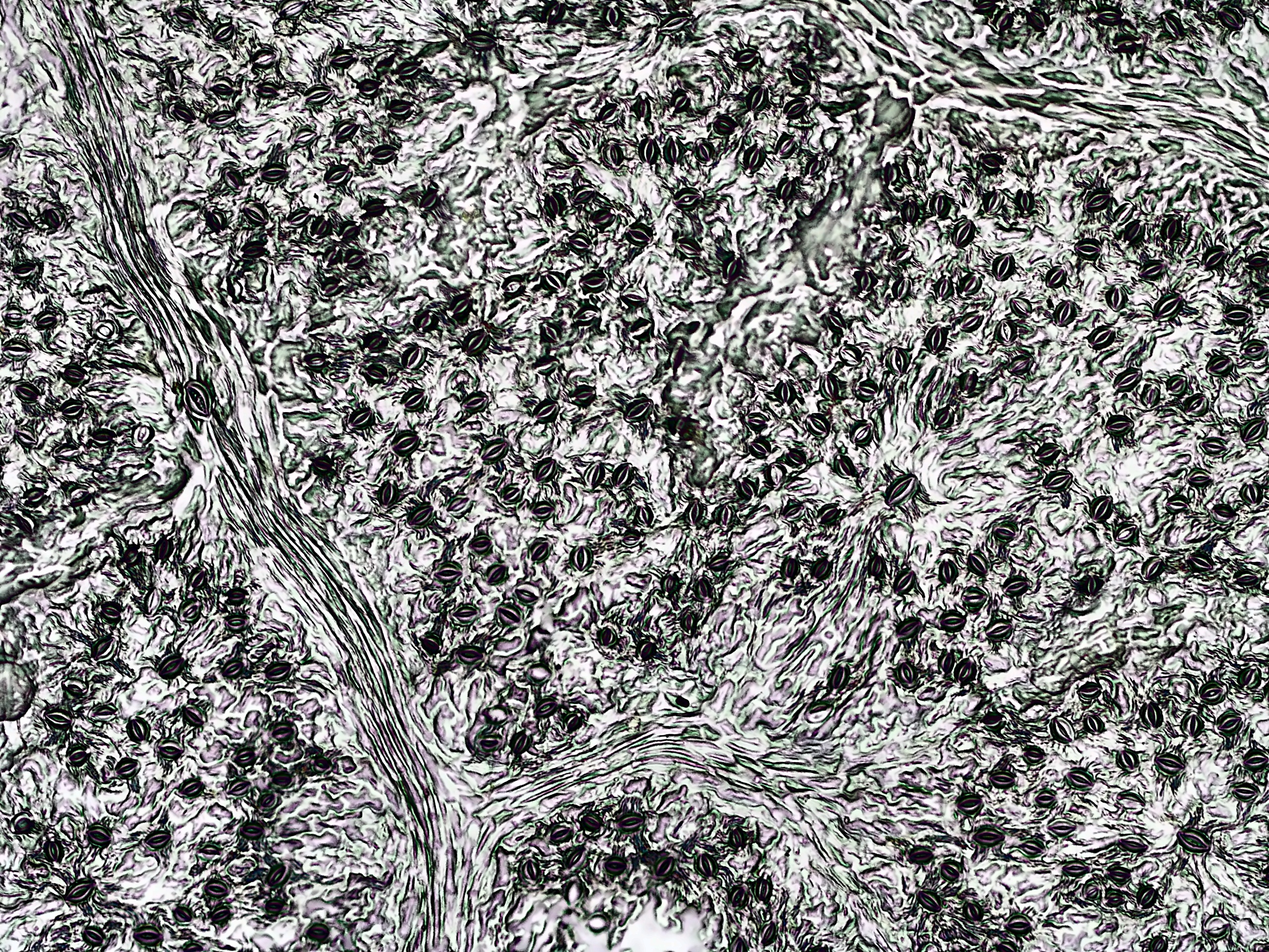stomata: (934, 645, 965, 683), (884, 475, 916, 509), (183, 380, 212, 417), (1161, 10, 1193, 42), (912, 887, 943, 919), (1173, 830, 1214, 853), (1047, 715, 1078, 744), (669, 234, 702, 261), (1041, 469, 1078, 493), (1199, 243, 1229, 272), (123, 717, 154, 745), (245, 45, 279, 70), (988, 8, 1018, 36), (890, 659, 920, 687), (536, 2, 570, 26), (799, 700, 835, 722), (1109, 35, 1148, 55), (40, 708, 75, 730), (1090, 5, 1126, 26), (909, 842, 937, 869), (680, 499, 709, 525), (6, 811, 36, 836), (1240, 418, 1265, 448), (63, 880, 97, 902), (1151, 751, 1185, 773), (459, 329, 490, 353), (175, 599, 206, 623), (1115, 791, 1146, 815), (1075, 575, 1107, 598), (957, 370, 985, 396), (233, 241, 271, 260), (167, 101, 197, 125), (970, 827, 1006, 847), (974, 152, 1008, 173), (529, 400, 560, 423), (389, 432, 420, 455), (155, 655, 186, 678), (719, 256, 745, 283), (886, 347, 911, 375), (989, 252, 1014, 280), (466, 29, 495, 53), (668, 187, 701, 208), (130, 926, 163, 947), (414, 634, 444, 657), (1000, 575, 1030, 598), (975, 711, 1011, 730), (302, 83, 333, 105), (527, 355, 561, 375), (169, 4, 203, 24), (128, 420, 154, 446), (12, 510, 38, 536), (623, 397, 650, 422), (956, 272, 981, 299), (1114, 367, 1141, 392), (1215, 4, 1240, 31), (599, 141, 626, 166), (180, 702, 205, 729), (744, 82, 768, 110), (1003, 913, 1035, 934), (1181, 393, 1209, 417), (983, 618, 1012, 641), (931, 275, 954, 304), (928, 190, 951, 219), (891, 275, 913, 305), (82, 826, 112, 848), (1200, 916, 1230, 938), (262, 661, 293, 682), (774, 379, 799, 405), (1139, 702, 1165, 727), (1154, 296, 1181, 320), (742, 145, 766, 172), (775, 135, 802, 159), (89, 636, 116, 660), (937, 860, 964, 884), (8, 261, 42, 280), (837, 342, 865, 365), (416, 185, 439, 213), (621, 223, 653, 243), (59, 677, 91, 697), (198, 879, 230, 899), (1064, 770, 1096, 790), (498, 276, 527, 298), (928, 406, 957, 428), (303, 920, 332, 942), (538, 271, 568, 292), (411, 310, 441, 331), (1031, 442, 1061, 463), (290, 127, 320, 148), (979, 189, 1004, 214), (447, 295, 473, 319), (1027, 10, 1053, 34), (241, 204, 267, 228), (804, 414, 831, 437), (1011, 186, 1034, 213), (787, 62, 815, 84), (781, 96, 809, 118), (1210, 502, 1238, 524), (405, 505, 434, 526), (820, 371, 841, 400), (937, 611, 966, 632), (923, 325, 944, 354), (1205, 355, 1234, 376), (569, 305, 601, 324), (660, 12, 692, 31), (86, 702, 118, 721), (267, 722, 299, 741), (478, 440, 508, 460), (538, 320, 563, 344), (401, 345, 426, 369), (592, 103, 622, 123), (1238, 339, 1268, 359), (960, 587, 986, 610), (222, 168, 245, 194), (42, 837, 65, 863), (1076, 679, 1102, 702), (632, 639, 659, 661), (346, 406, 373, 428), (1084, 191, 1111, 213), (140, 832, 173, 850), (430, 564, 461, 583), (322, 166, 353, 185), (167, 904, 198, 923), (611, 461, 632, 489), (91, 319, 119, 340), (1105, 415, 1134, 435), (3, 208, 32, 228), (79, 928, 108, 948), (1, 340, 33, 358), (265, 863, 289, 887), (967, 550, 990, 575), (1088, 497, 1113, 520), (201, 208, 226, 231), (1115, 749, 1140, 772), (1241, 481, 1264, 506), (756, 920, 778, 946), (1134, 886, 1160, 908), (618, 286, 648, 305), (1046, 817, 1076, 836), (530, 458, 557, 479), (958, 311, 985, 332), (165, 64, 186, 91), (209, 906, 236, 927), (494, 605, 522, 625), (43, 202, 63, 230), (114, 757, 142, 777), (224, 777, 252, 797), (955, 793, 983, 813), (1198, 682, 1226, 702), (1241, 251, 1269, 271), (204, 111, 235, 129), (1118, 835, 1149, 853), (567, 546, 590, 570), (849, 421, 873, 444), (952, 221, 975, 245), (57, 399, 86, 418), (229, 747, 258, 766), (570, 385, 595, 407), (583, 463, 605, 488), (833, 454, 855, 479), (692, 138, 714, 163), (714, 503, 735, 529), (1007, 296, 1033, 317), (994, 319, 1015, 345), (1090, 326, 1116, 347), (284, 206, 310, 227), (13, 383, 39, 404), (829, 664, 850, 690), (1225, 306, 1251, 327), (577, 273, 609, 290), (1230, 782, 1262, 799), (379, 478, 399, 505), (896, 617, 923, 637), (0, 306, 27, 326), (65, 484, 92, 504), (1197, 436, 1227, 454), (1005, 354, 1033, 373), (663, 136, 682, 164), (711, 115, 739, 134), (178, 778, 206, 797), (736, 476, 760, 498), (309, 456, 333, 478), (1052, 302, 1076, 324), (1044, 265, 1068, 287), (1161, 217, 1183, 241), (209, 75, 233, 97), (153, 537, 175, 561), (678, 608, 699, 633), (334, 119, 359, 140), (458, 392, 487, 410), (1104, 864, 1133, 882), (360, 364, 386, 384), (851, 379, 877, 399), (1105, 285, 1125, 311), (887, 244, 913, 264), (1122, 221, 1148, 241), (329, 50, 355, 70), (141, 588, 161, 614), (97, 600, 123, 620), (813, 504, 840, 523), (990, 522, 1017, 541), (1074, 238, 1101, 257), (18, 488, 50, 504), (454, 646, 484, 663), (902, 198, 919, 228), (256, 165, 286, 182), (237, 822, 267, 839), (825, 310, 847, 333), (1237, 666, 1260, 688), (399, 388, 423, 409), (891, 570, 915, 591), (358, 199, 386, 217), (565, 849, 589, 870), (694, 851, 715, 875), (1182, 712, 1203, 736), (1140, 558, 1164, 579), (51, 443, 82, 459), (498, 485, 524, 504), (638, 138, 657, 164), (317, 278, 343, 297), (474, 735, 503, 752), (88, 427, 117, 444), (65, 747, 94, 764), (1230, 568, 1259, 585), (33, 311, 60, 329), (1187, 553, 1214, 571), (1184, 469, 1211, 487), (629, 317, 651, 339), (1114, 522, 1136, 544), (212, 21, 234, 43), (670, 89, 692, 111), (653, 856, 676, 877), (526, 540, 550, 560), (367, 145, 395, 162), (61, 365, 89, 382), (189, 566, 208, 591), (219, 660, 244, 679), (157, 741, 182, 760), (514, 584, 540, 602), (1242, 751, 1268, 769), (300, 353, 329, 369), (483, 563, 505, 584), (595, 626, 617, 647), (747, 437, 769, 458), (937, 560, 958, 582), (601, 6, 623, 27), (1083, 714, 1105, 735), (509, 732, 529, 755), (1141, 384, 1161, 407), (960, 901, 983, 921), (280, 0, 307, 17), (386, 100, 413, 117), (261, 897, 288, 914), (1216, 714, 1243, 731), (781, 557, 800, 581), (396, 61, 421, 79), (616, 815, 646, 830), (1021, 746, 1046, 764), (988, 771, 1016, 787), (308, 217, 329, 238), (541, 194, 561, 216), (735, 48, 758, 67), (310, 753, 333, 772), (522, 858, 541, 881), (590, 210, 614, 228), (604, 857, 628, 875), (580, 812, 604, 830), (467, 535, 492, 552), (707, 554, 732, 571), (356, 79, 381, 96), (773, 181, 798, 198), (549, 826, 574, 843), (1115, 202, 1136, 222), (1165, 374, 1186, 394), (637, 505, 656, 527), (691, 578, 713, 597), (744, 410, 766, 429), (811, 557, 830, 579), (533, 697, 555, 716), (361, 332, 385, 349), (856, 269, 873, 293), (1139, 261, 1163, 278), (225, 615, 249, 632), (1059, 861, 1088, 875), (659, 574, 679, 594), (252, 83, 277, 99), (1018, 839, 1043, 855), (865, 555, 884, 576), (321, 247, 342, 266), (271, 771, 297, 786), (766, 463, 782, 487), (786, 447, 806, 466), (13, 430, 38, 445), (755, 877, 772, 899), (1032, 790, 1055, 806), (449, 606, 477, 619), (532, 501, 552, 519), (806, 158, 826, 176), (339, 223, 359, 241), (730, 887, 748, 907), (634, 97, 651, 118), (226, 587, 248, 603), (256, 792, 278, 808), (567, 235, 590, 250), (784, 504, 803, 522), (344, 250, 363, 268), (729, 827, 746, 847), (1163, 499, 1189, 512), (574, 189, 595, 205), (1104, 890, 1124, 906), (447, 497, 471, 510), (198, 844, 224, 856), (618, 533, 640, 547), (563, 714, 581, 730), (1083, 885, 1098, 898)
